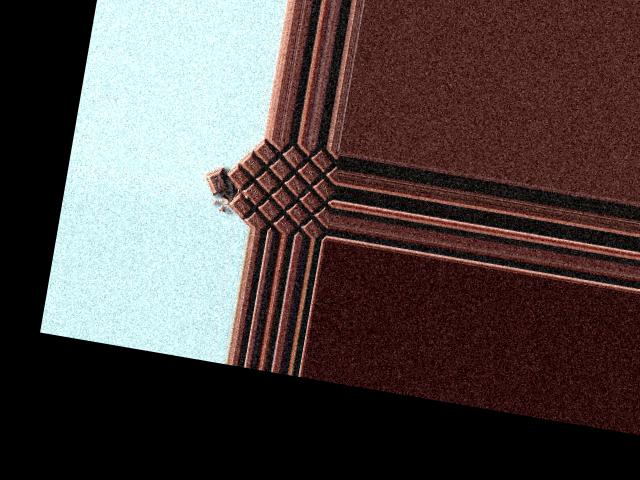chocolate: (211, 135, 341, 239)
